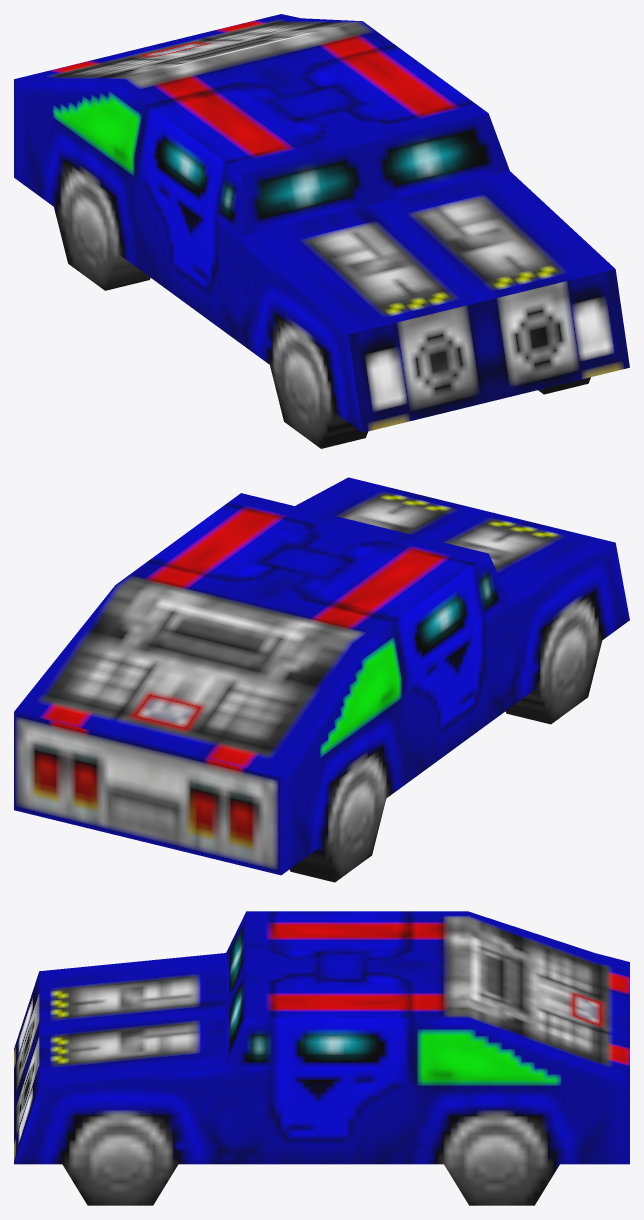
File: armoredcar.glb
3 renders of one model, top to bottom at view 1: azimuth 30°, elevation 25°; view 2: azimuth 150°, elevation 25°; view 3: azimuth 270°, elevation 25°, orthographic. The views are drawn at different scales.
Parts seen in each view (by area): view 1: Hummer; view 2: Hummer; view 3: Hummer.
Part boxes in pixels (<box>): Hummer: <box>14,14,629,448</box>; Hummer: <box>14,477,629,882</box>; Hummer: <box>14,911,629,1205</box>.
Bounding box in the file's own units: 2.19 × 1.62 × 4.95.
Materials: 1 (1 with a texture image).
